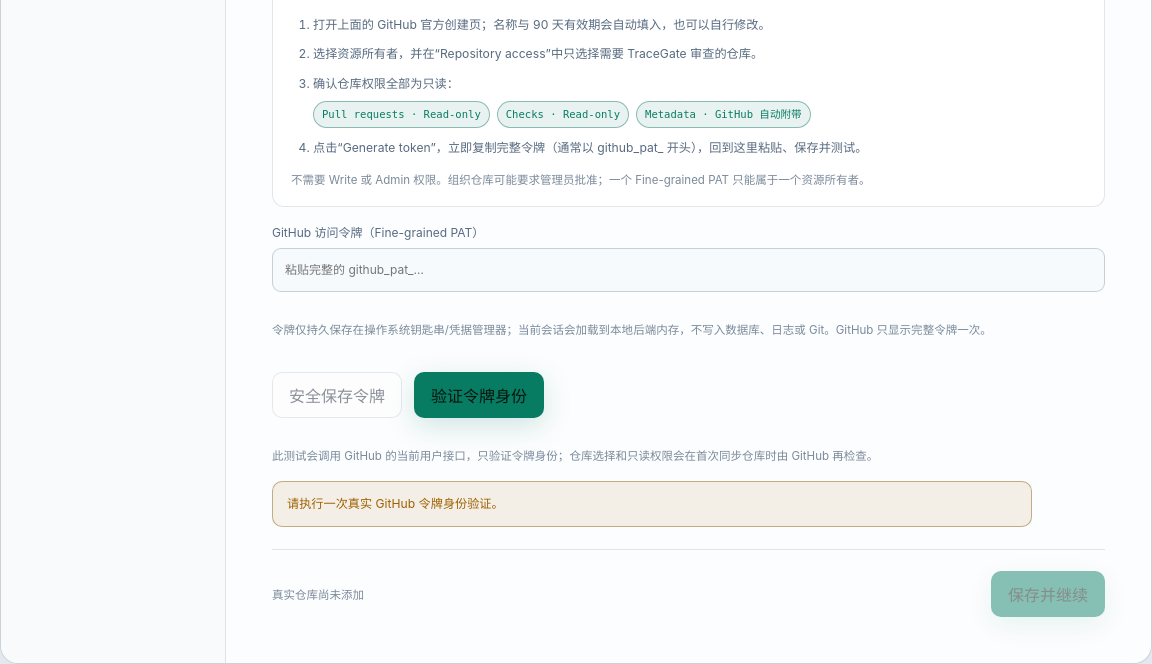
Test case: GitHub onboarding guidance › requires verification again after replacing a verified token
The image size is (1152, 664).
(page scrolled)
Click the button "验证令牌身份".
click(479, 395)  # box 414,372 -> 544,418
(page scrolled)
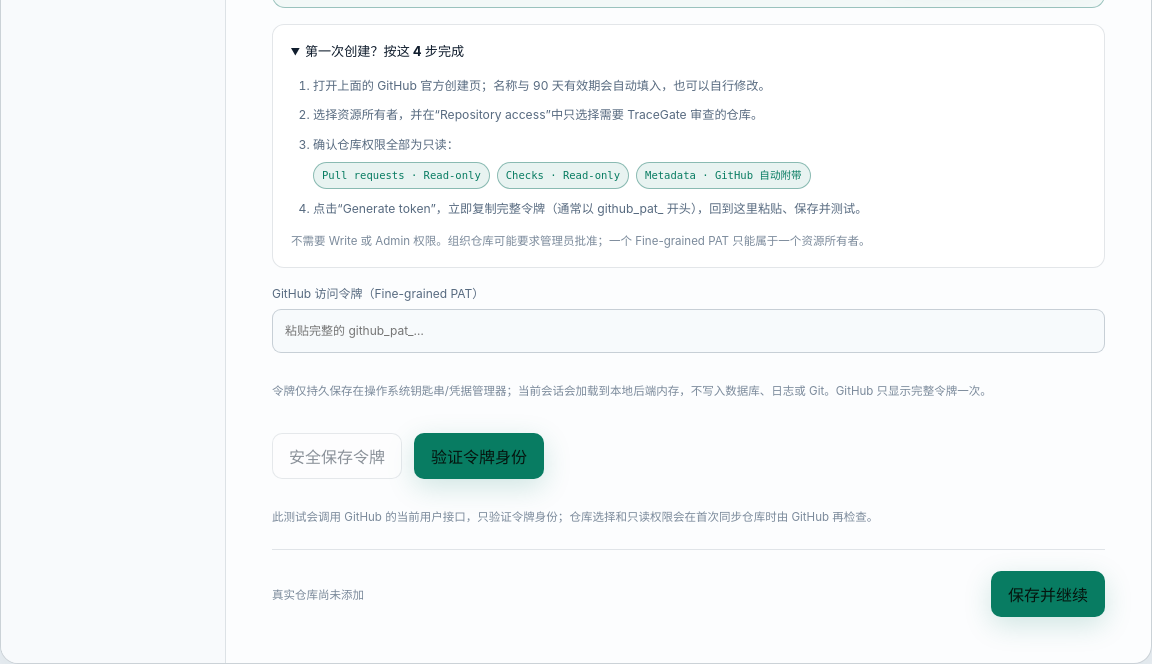
Type "replacement-credential-material-12345" into the password field labelled "GitHub 访问令牌（Fine-grained PAT）".
click(688, 331); type("replacement-credential-material-12345")  # box 272,309 -> 1105,353
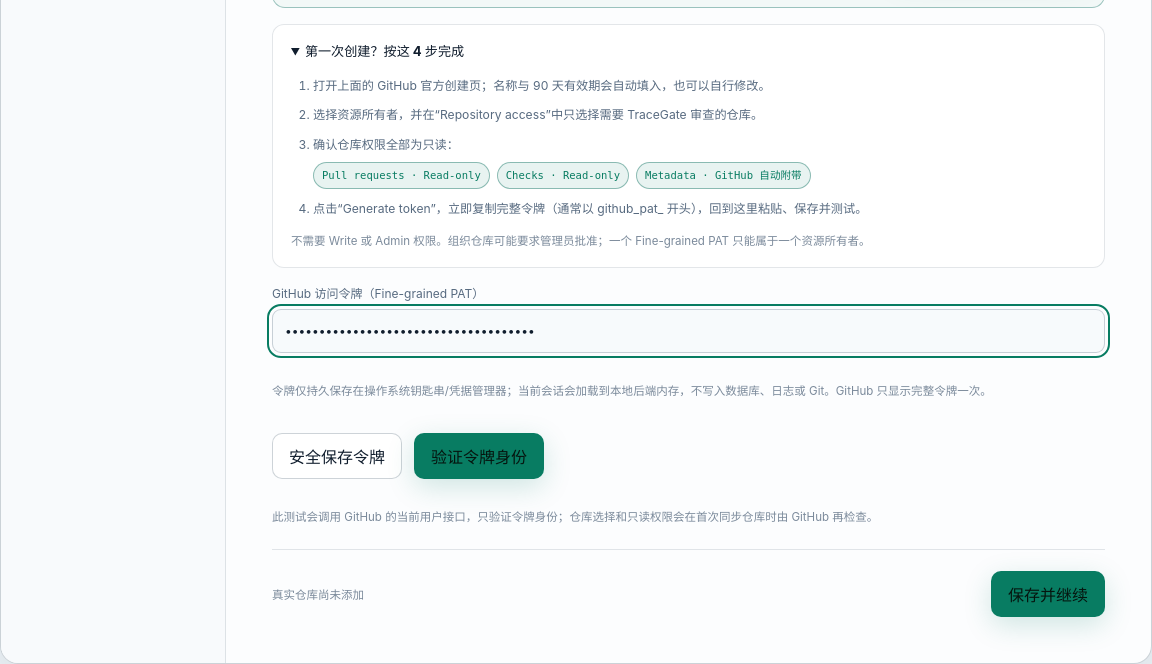
Click the button "安全保存令牌".
click(337, 456)  # box 272,433 -> 402,479
(page scrolled)
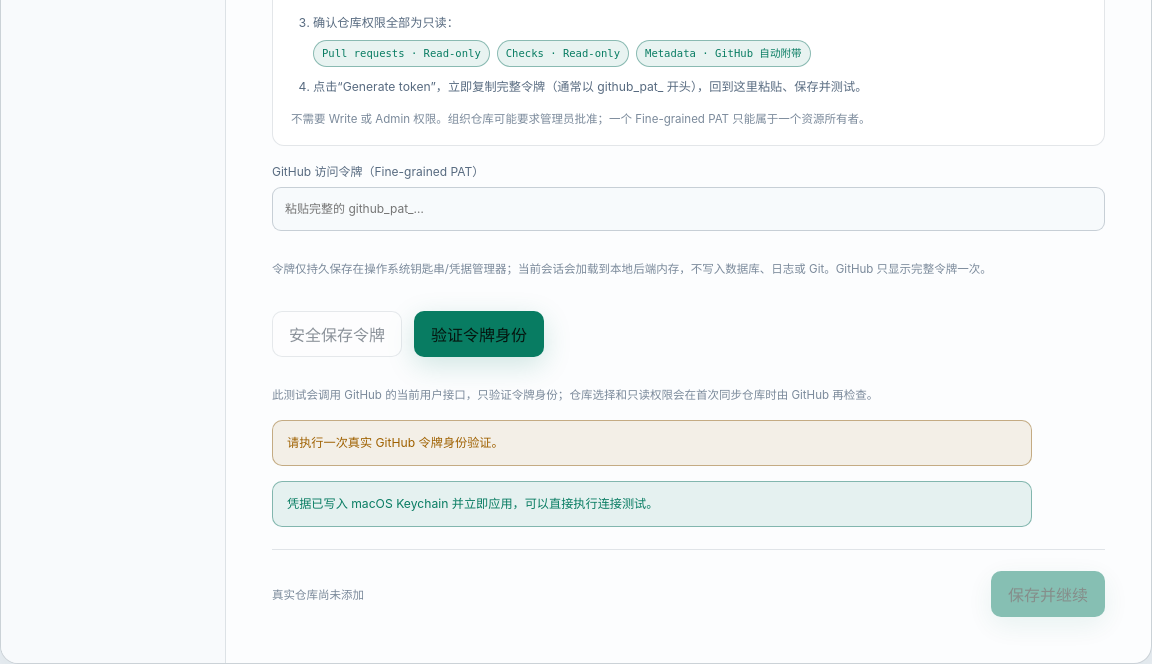
Now the text "请执行一次真实 GitHub 令牌身份验证。" is shown, box 272,420 -> 1032,466
Now the button "保存并继续" is disabled, box 991,571 -> 1105,617
